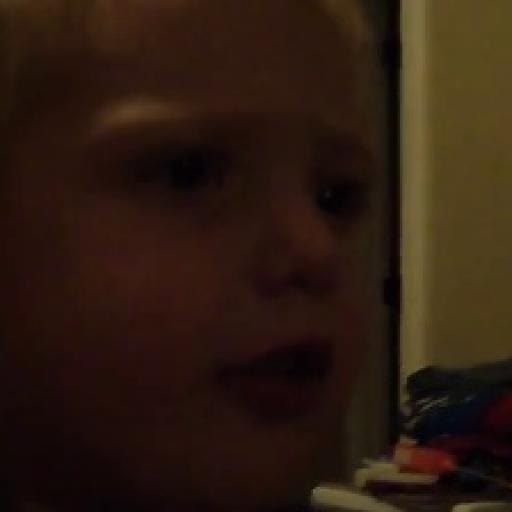Autism: (52, 14, 403, 490)
